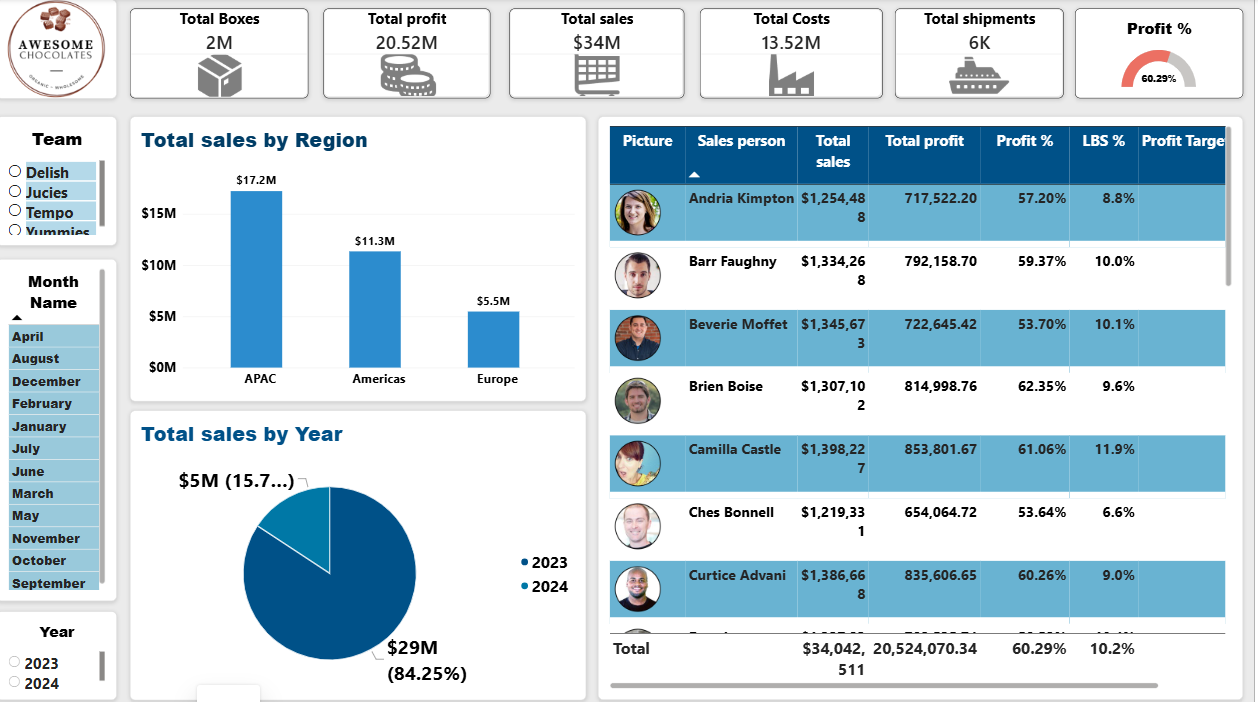

This screenshot's page, from the dashboard's own definition file:
{"tool":"powerbi","page":{"name":"Sales","canvas":[1920,1080],"ordinal":0},"visuals":[{"type":"columnChart","title":"Total sales by Region","fields":{"Category":["locations.Region"],"Y":["Measure.Total sales"]},"box":[218,179.4,690.5,431.5],"z":0},{"type":"pieChart","title":"Total sales by Year","fields":{"Category":["calendar.Year"],"Y":["Measure.Total sales"]},"box":[218,624.6,690.5,438.4],"z":1000},{"type":"tableEx","fields":{"Values":["people.Picture","people.Sales person","Measure.Total sales","Measure.Total profit","Measure.Profit %","Measure.LBS %","Measure.Profit Target Indicator"]},"box":[926.7,179.4,976.7,883.5],"z":2000},{"type":"listSlicer","fields":{"Values":["people.Team"]},"box":[15.9,179.4,181.7,195.3],"z":4000},{"type":"cardVisual","fields":{"Data":["Measure.Total Boxes"]},"box":[218,15.9,270.3,136.3],"z":4005},{"type":"cardVisual","fields":{"Data":["Measure.Total profit"]},"box":[511,15.9,252.9,136],"z":4006},{"type":"cardVisual","fields":{"Data":["Measure.Total sales"]},"box":[792.7,15.9,264.8,136],"z":4007},{"type":"cardVisual","fields":{"Data":["Measure.Total Costs"]},"box":[1081.1,15.9,276.8,136],"z":4008},{"type":"cardVisual","fields":{"Data":["Measure.Total shipments"]},"box":[1376.4,15.9,255.3,136],"z":4009},{"type":"gauge","fields":{"Y":["Measure.Profit %"]},"box":[1649,15.9,254.4,136.3],"z":4010},{"type":"tableEx","fields":{"Values":["calendar.Month Name"]},"box":[15.9,395.2,181.7,517.9],"z":4011},{"type":"listSlicer","fields":{"Values":["calendar.Year"]},"box":[15.9,929,181.7,134],"z":4012},{"type":"image","box":[16,2,182,150],"z":4013}]}

Visuals, with their boxes in screenshot pixels (x1, y1, x2, y2), scaled from the page's 1920x1080 canvas onto the 1258x702 screenshot:
"Total sales by Region" columnChart: BBox(143, 117, 595, 397)
"Total sales by Year" pieChart: BBox(143, 406, 595, 691)
tableEx - people.Picture x people.Sales person: BBox(607, 117, 1247, 691)
listSlicer - people.Team: BBox(10, 117, 129, 244)
cardVisual - Measure.Total Boxes: BBox(143, 10, 320, 99)
cardVisual - Measure.Total profit: BBox(335, 10, 501, 99)
cardVisual - Measure.Total sales: BBox(519, 10, 693, 99)
cardVisual - Measure.Total Costs: BBox(708, 10, 890, 99)
cardVisual - Measure.Total shipments: BBox(902, 10, 1069, 99)
gauge - Measure.Profit %: BBox(1080, 10, 1247, 99)
tableEx - calendar.Month Name: BBox(10, 257, 129, 594)
listSlicer - calendar.Year: BBox(10, 604, 129, 691)
image: BBox(10, 1, 130, 99)
